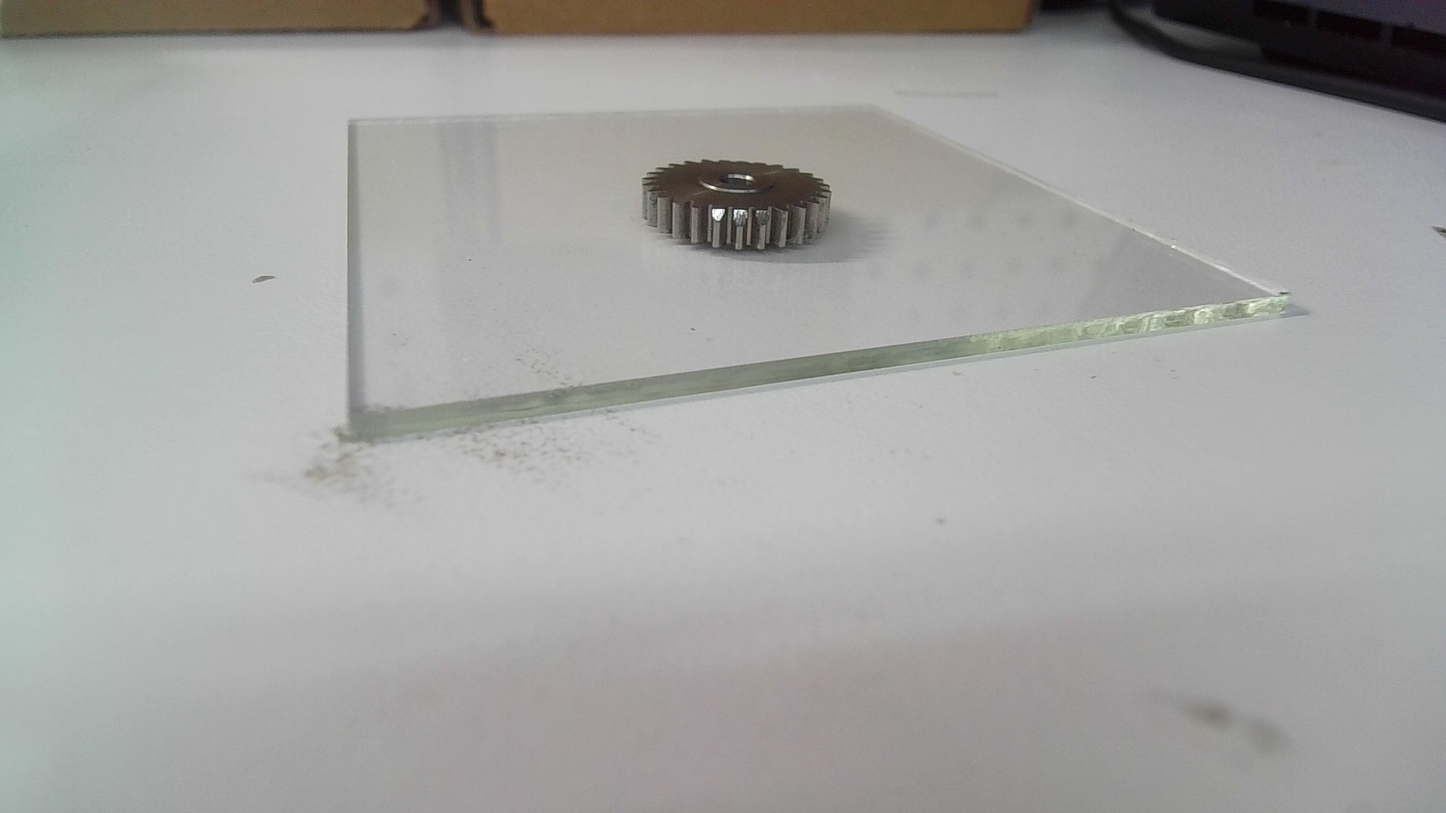gear: (637, 156, 836, 255)
